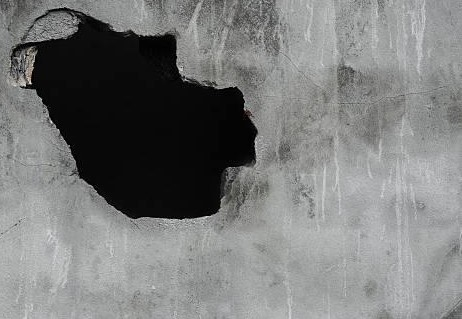Crack: (269, 38, 447, 105), (1, 152, 58, 168)
Spalling: (7, 8, 259, 221)
